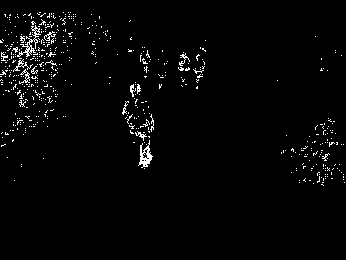person: (123, 84, 156, 169)
